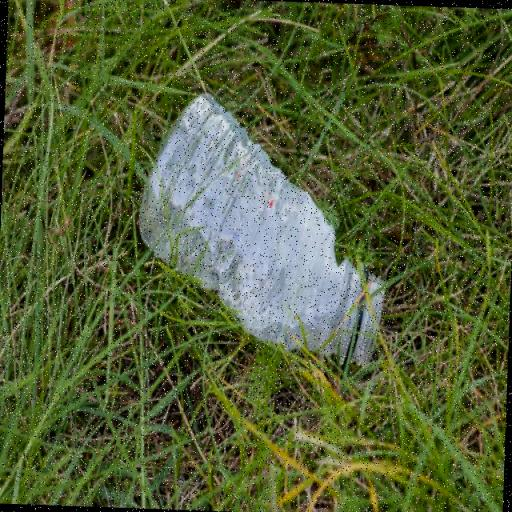bottle: (140, 94, 384, 364)
